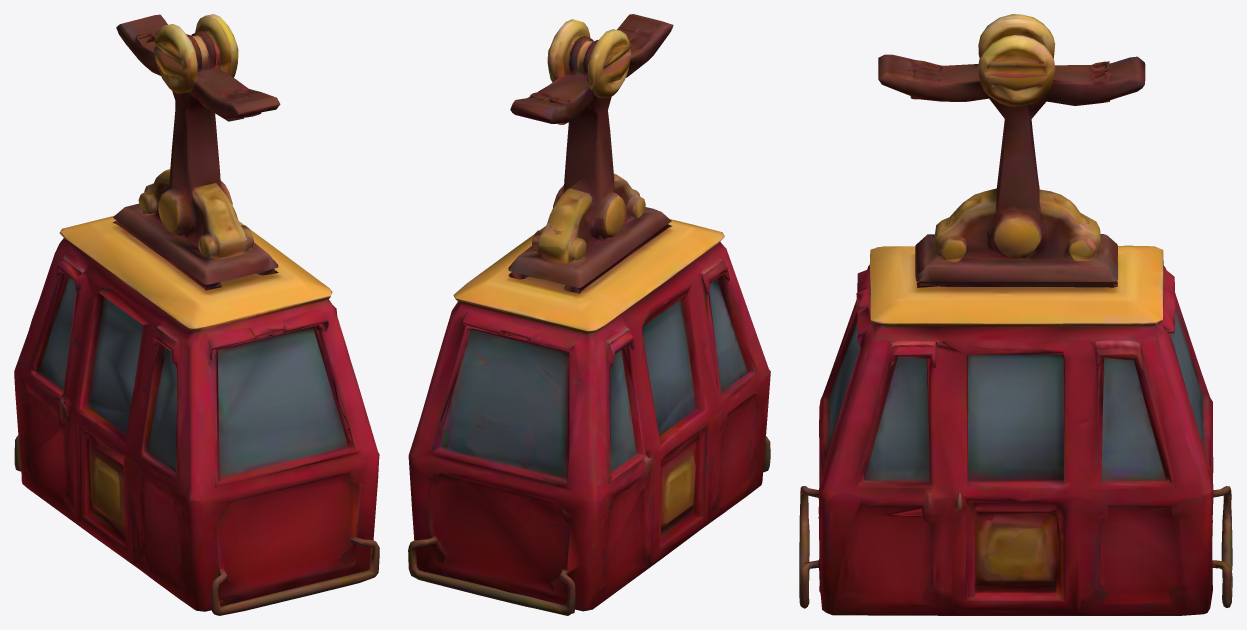
File: prop_cloud_gondola.fbx
3 views of the same model, side by side, from view 1: azimuth 30°, elevation 25°; view 2: azimuth 150°, elevation 25°; view 3: azimuth 270°, elevation 25° (orthographic). The views are drawn at different scales.
Visible parts, largest first — view 1: geometry_0; view 2: geometry_0; view 3: geometry_0.
Boxes of the visible parts, <box> form: geometry_0: <box>14,14,379,615</box>; geometry_0: <box>408,14,770,615</box>; geometry_0: <box>799,14,1232,615</box>.
Bounding box in the file's own units: 0.4054 × 1 × 0.7216.
Materials: 1 (1 with a texture image).
